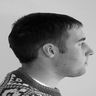ear: (38, 40, 61, 61)
